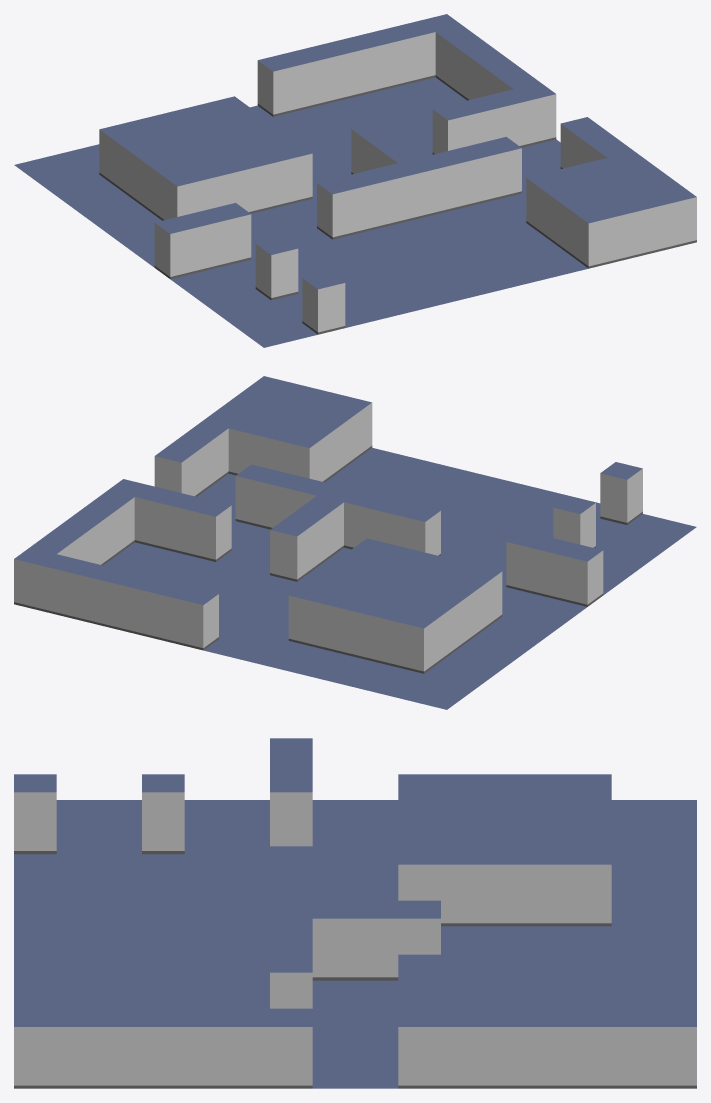
The model's file is Plot 3.fbx.
The picture shows the model from 3 angles, top to bottom: view 1: azimuth 30°, elevation 25°; view 2: azimuth 150°, elevation 25°; view 3: azimuth 270°, elevation 25°; orthographic projection. The views are drawn at different scales.
Visible parts, largest first — view 1: Plane; view 2: Plane; view 3: Plane.
Boxes of the visible parts, x1,y1,x2,y2 form: Plane: (14, 14, 696, 347); Plane: (14, 376, 696, 709); Plane: (14, 738, 696, 1088).
Size of the model in its own units: 200 by 20 by 200.
